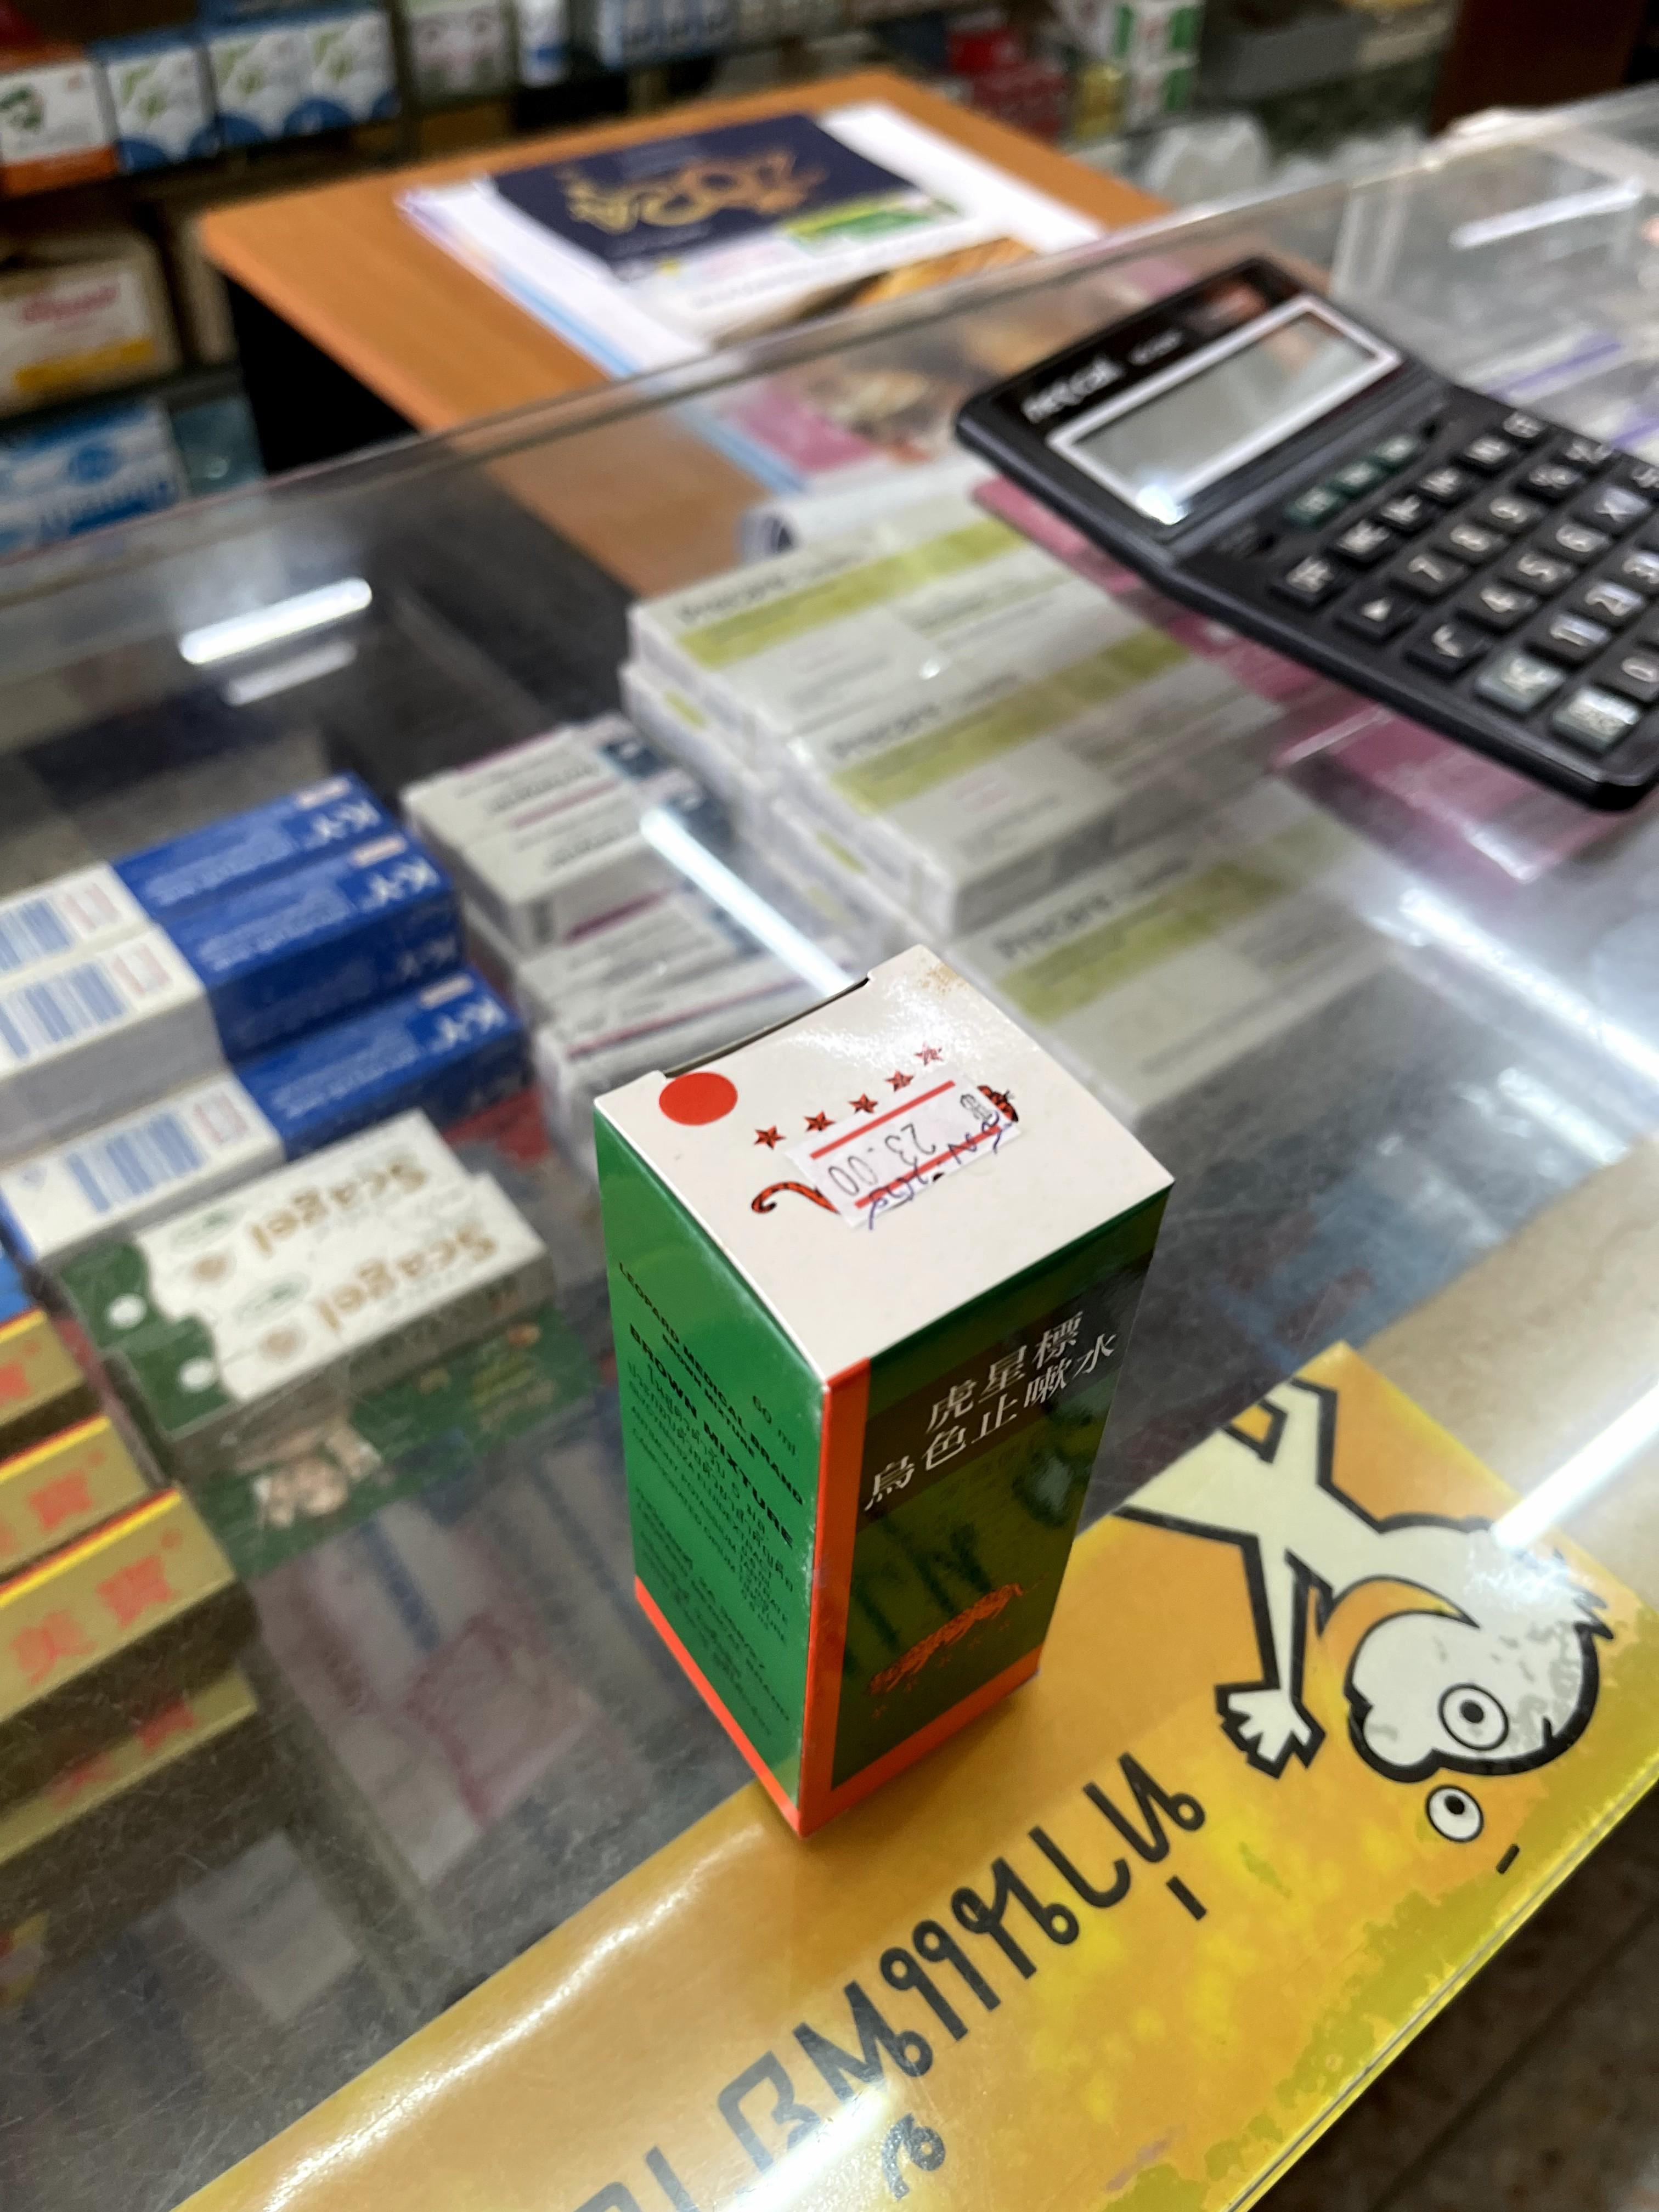Black-Tiger: (589, 951, 1176, 1836)
